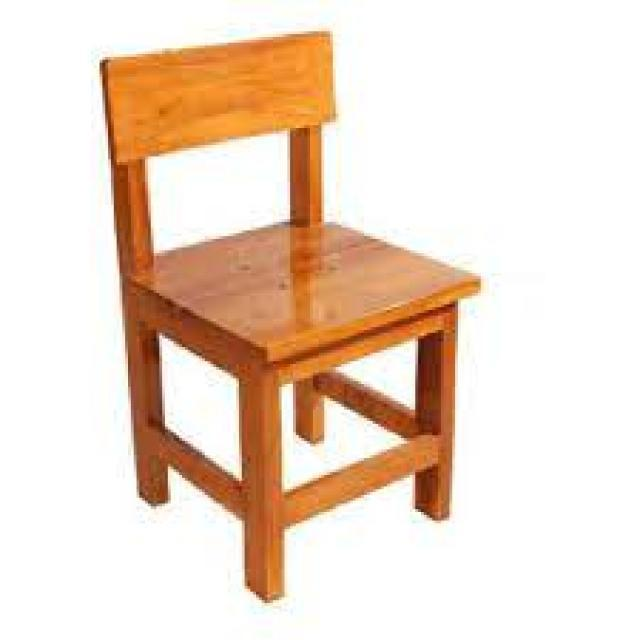chair: (94, 28, 484, 600)
